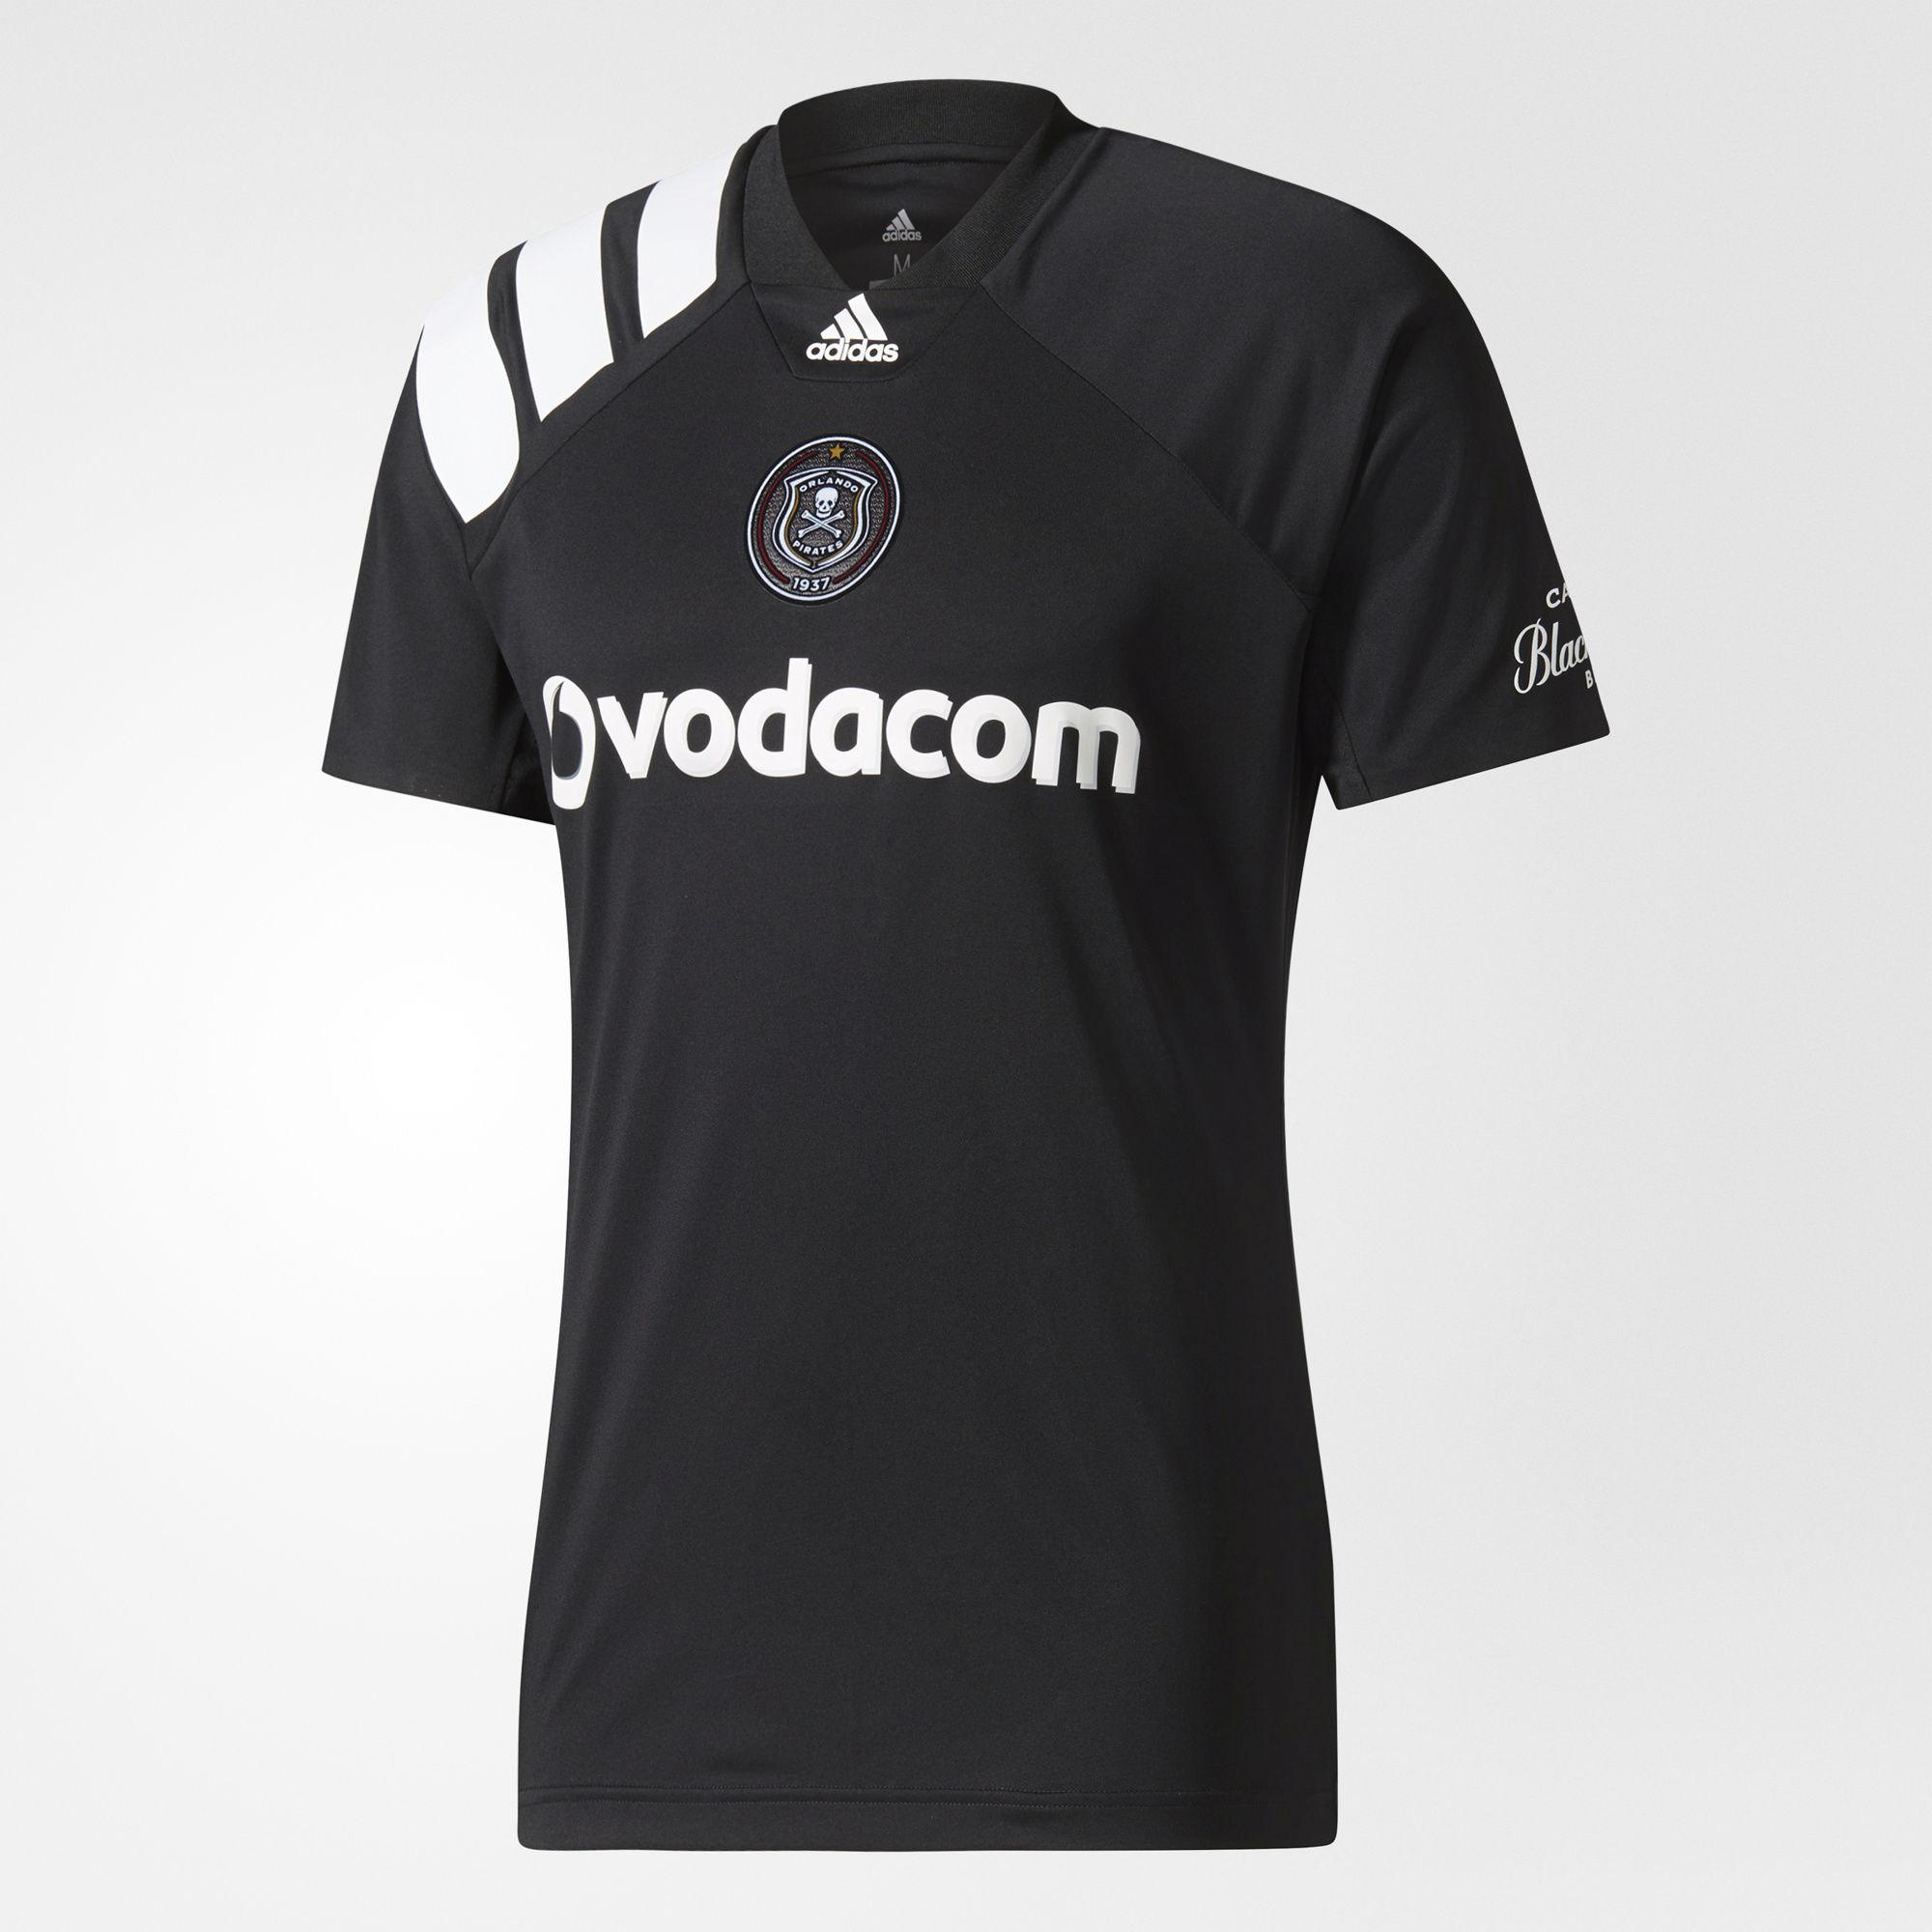teeshirt: (299, 73, 1681, 1914)
